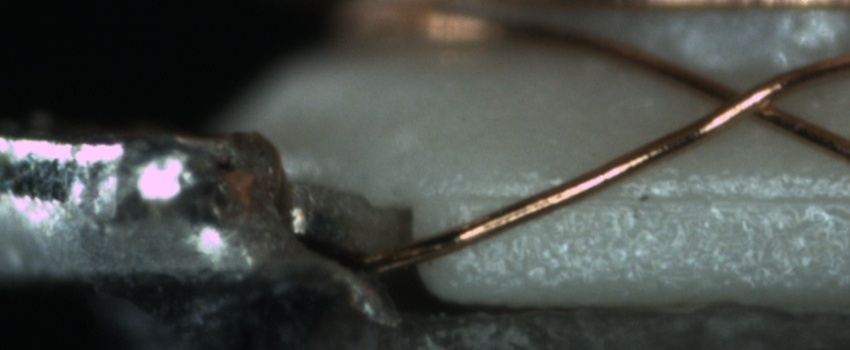CL: (697, 72, 793, 130)
DL: (423, 162, 849, 225)
